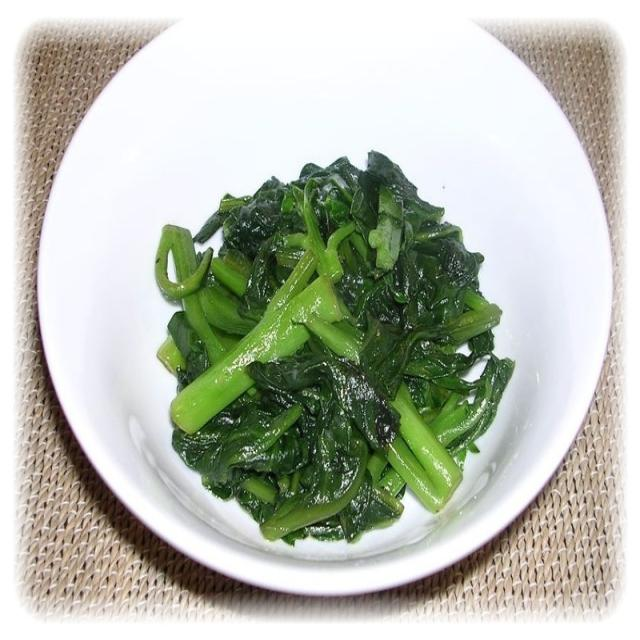蔬菜料理: (126, 107, 564, 558)
